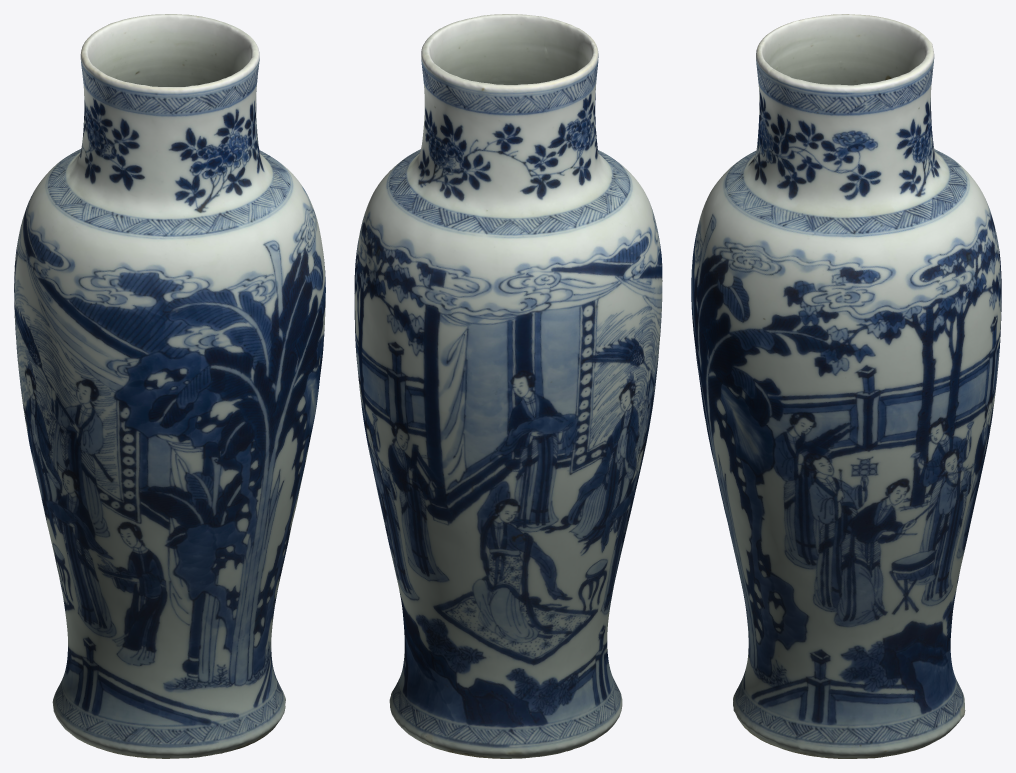
Rendered from FlowerVase.glb.
The picture shows the model from 3 angles, left to right: view 1: azimuth 30°, elevation 25°; view 2: azimuth 150°, elevation 25°; view 3: azimuth 270°, elevation 25°; orthographic projection.
Parts seen in each view (by area): view 1: Mesh_0; view 2: Mesh_0; view 3: Mesh_0.
Part boxes in pixels (bbox=[...]): Mesh_0: bbox=[14, 14, 325, 758]; Mesh_0: bbox=[354, 14, 662, 758]; Mesh_0: bbox=[691, 14, 1001, 758].
Bounding box in the file's own units: 0.1709 × 0.4053 × 0.1719.
1 material, 1 textured.
